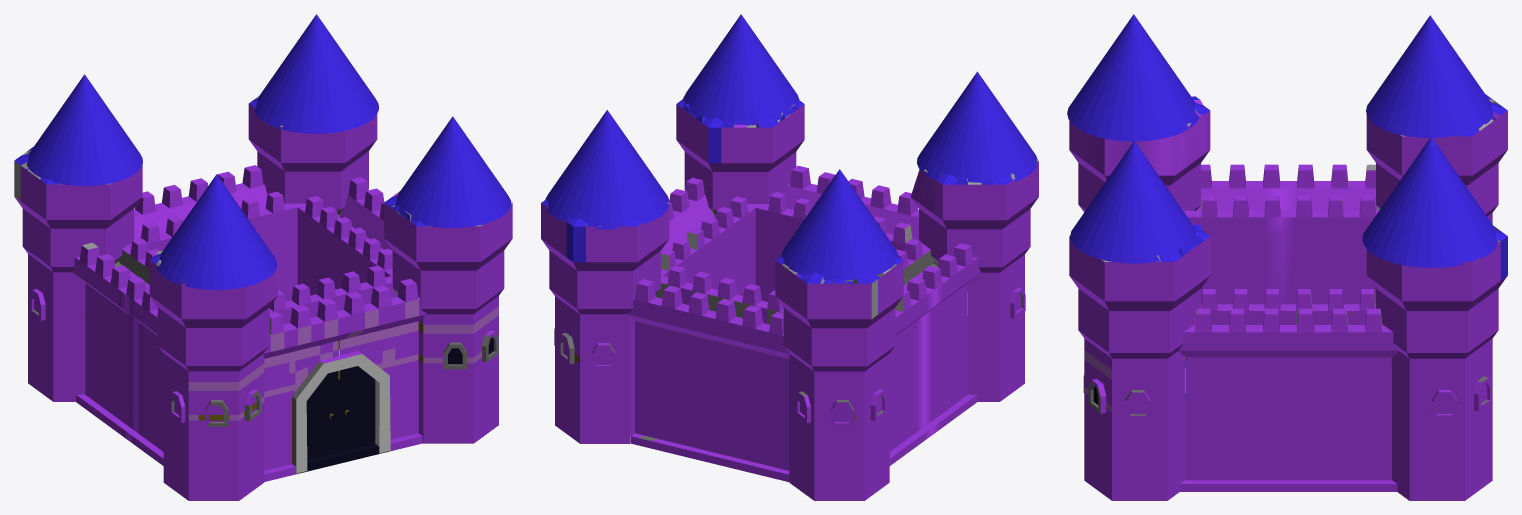
The model's file is sato.fbx.
3 renders of one model, left to right at view 1: azimuth 30°, elevation 25°; view 2: azimuth 150°, elevation 25°; view 3: azimuth 270°, elevation 25°, orthographic. The views are drawn at different scales.
Visible parts, largest first — view 1: tower01; view 2: tower01; view 3: tower01.
Boxes of the visible parts, left/top/right/bottom form: tower01: left=14, top=14, right=512, bottom=500; tower01: left=541, top=14, right=1038, bottom=500; tower01: left=1067, top=14, right=1507, bottom=500.
Size of the model in its own units: 675 by 592 by 686.
